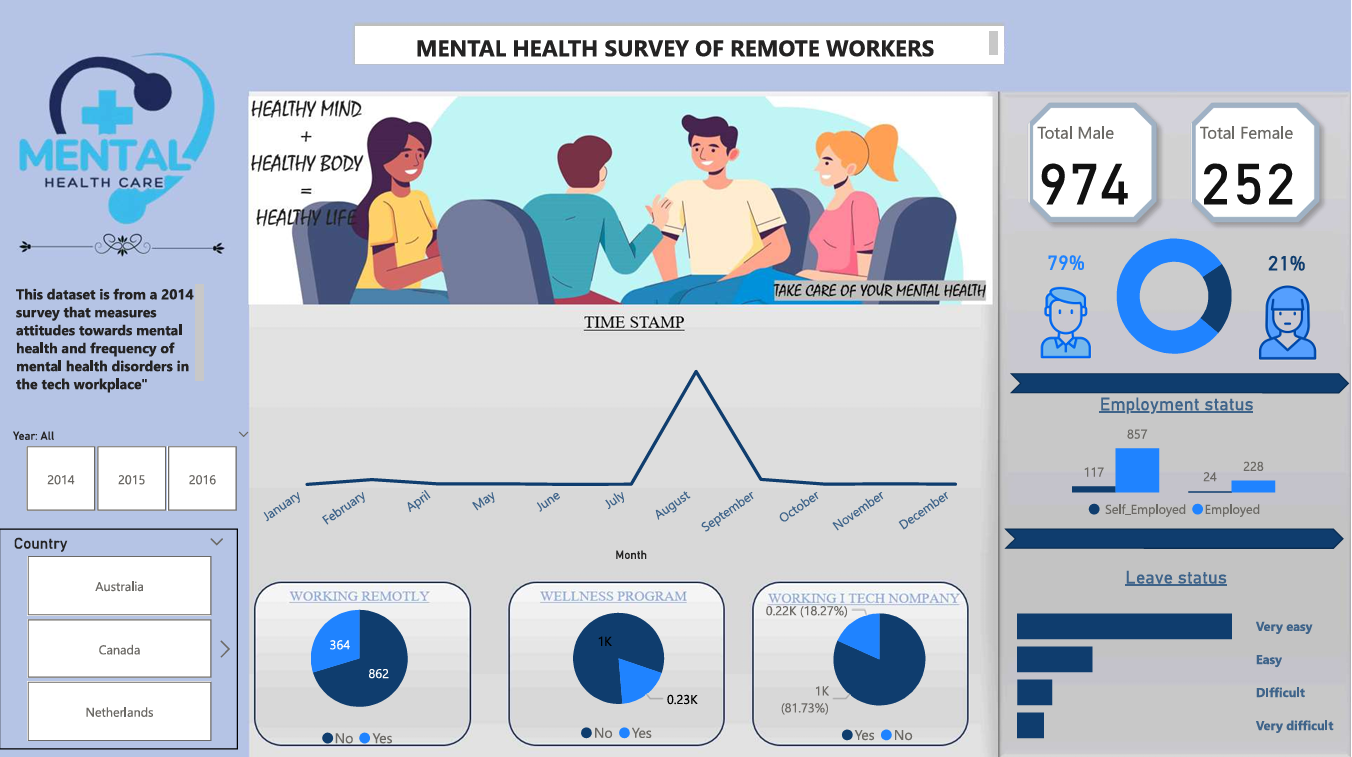

The page's visual inventory and layout, read from the dashboard file:
{"tool":"powerbi","page":{"name":"Page 1","canvas":[1280,720],"ordinal":0},"visuals":[{"type":"cardVisual","fields":{"Data":["Sum(survey.Total male)","Sum(survey.Total Female)"]},"box":[956.7,83.2,311.3,147.2],"z":0},{"type":"donutChart","title":" Total Female and Sum of Total male","fields":{"Y":["Sum(survey.Total Female)","Sum(survey.Total male)"]},"box":[950.7,209.9,323.3,146],"z":1000},{"type":"card","fields":{"Values":["survey.female %"]},"box":[1170.2,230.4,97.7,43.4],"z":2000},{"type":"card","fields":{"Values":["survey.male %"]},"box":[955.5,225.6,108.6,51.9],"z":3000},{"type":"image","box":[966.4,266.6,86.9,82],"z":4000},{"type":"image","box":[1177.5,266.6,85.7,82],"z":5000},{"type":"shape","box":[956.7,355.9,320.9,19.3],"z":6000},{"type":"clusteredColumnChart","title":"Employment status","fields":{"Y":["Sum(survey.Self_Employed)","Sum(survey.Employed)"],"Category":["survey.Gender"]},"box":[955.5,375.2,318.5,127.9],"z":7000},{"type":"shape","box":[951.9,503.1,320.9,19.3],"z":8000},{"type":"barChart","title":"Leave status","fields":{"Category":["survey.leave"],"Y":["CountNonNull(survey.Gender)"]},"box":[959.1,539.3,311.3,181],"z":9000},{"type":"pieChart","fields":{"Category":["survey.remote work"],"Y":["CountNonNull(survey.Gender)"]},"box":[225.6,561,230.4,159.3],"z":10000},{"type":"pieChart","fields":{"Category":["survey.wellness program"],"Y":["CountNonNull(survey.Gender)"]},"box":[430.7,565.8,311.3,149.6],"z":11000},{"type":"pieChart","fields":{"Category":["survey.tech company"],"Y":["CountNonNull(survey.Gender)"]},"box":[700.9,565.8,265.4,150.8],"z":12000},{"type":"lineChart","fields":{"Category":["survey.Timestamp.Variation.Date Hierarchy.Month"],"Y":["CountNonNull(survey.Gender)"]},"box":[237.7,301.6,697.3,237.7],"z":13000},{"type":"textbox","box":[336.6,27.7,614.1,35],"z":14000},{"type":"slicer","fields":{"Values":["survey.Timestamp.Variation.Date Hierarchy.Year"]},"box":[0,404.2,248.5,89.3],"z":15000},{"type":"slicer","fields":{"Values":["survey.Country"]},"box":[0,503.1,225.6,208.7],"z":16000},{"type":"textbox","box":[10.9,266.6,188.2,127.9],"z":16002}]}

Visuals, with their boxes in screenshot pixels (x1, y1, x2, y2), scaled from the page's 1280x720 canvas onto the 1352x757 screenshot:
cardVisual - Sum(survey.Total male) x Sum(survey.Total Female): select_region(1011, 87, 1339, 242)
" Total Female and Sum of Total male" donutChart: select_region(1004, 221, 1346, 374)
card - survey.female %: select_region(1236, 242, 1339, 288)
card - survey.male %: select_region(1009, 237, 1124, 292)
image: select_region(1021, 280, 1113, 367)
image: select_region(1244, 280, 1334, 367)
shape: select_region(1011, 374, 1349, 394)
"Employment status" clusteredColumnChart: select_region(1009, 394, 1346, 529)
shape: select_region(1005, 529, 1344, 549)
"Leave status" barChart: select_region(1013, 567, 1342, 756)
pieChart - survey.remote work x CountNonNull(survey.Gender): select_region(238, 590, 482, 756)
pieChart - survey.wellness program x CountNonNull(survey.Gender): select_region(455, 595, 784, 752)
pieChart - survey.tech company x CountNonNull(survey.Gender): select_region(740, 595, 1021, 753)
lineChart - survey.Timestamp.Variation.Date Hierarchy.Month x CountNonNull(survey.Gender): select_region(251, 317, 988, 567)
textbox: select_region(356, 29, 1004, 66)
slicer - survey.Timestamp.Variation.Date Hierarchy.Year: select_region(0, 425, 262, 519)
slicer - survey.Country: select_region(0, 529, 238, 748)
textbox: select_region(12, 280, 210, 415)
